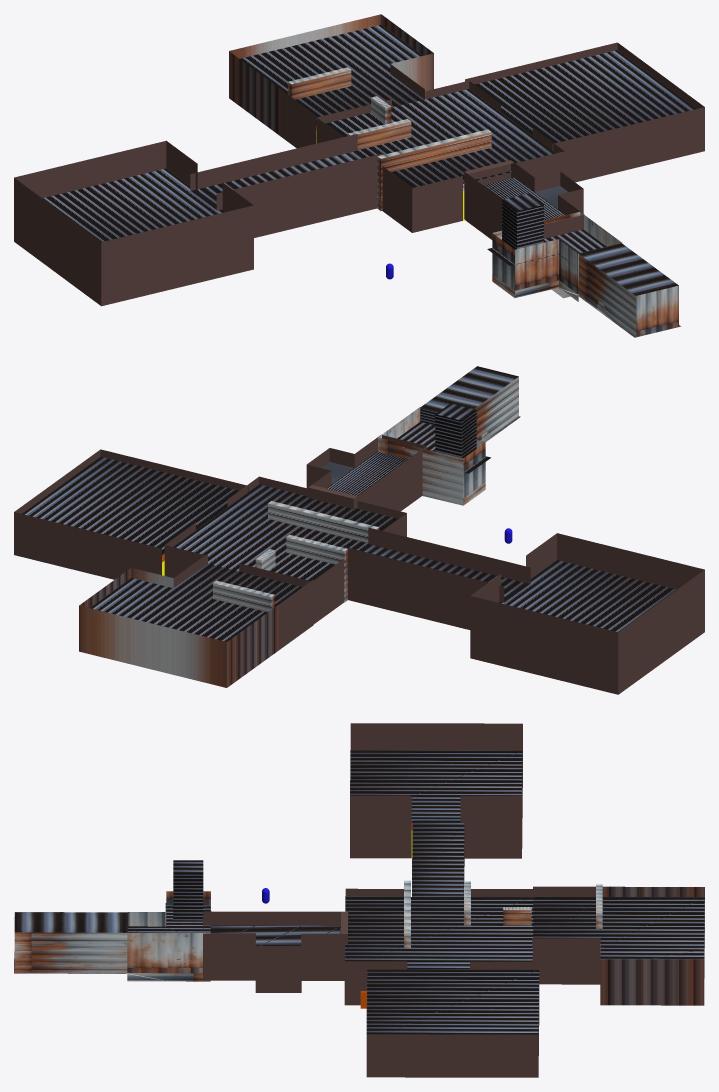
Rendered from cenario1.glb.
The picture shows the model from 3 angles, top to bottom: view 1: azimuth 30°, elevation 25°; view 2: azimuth 150°, elevation 25°; view 3: azimuth 270°, elevation 25°; orthographic projection. The views are drawn at different scales.
Parts seen in each view (by area): view 1: chao.005, teto.003, chao.009, teto.002, parede, teto.004, parede.002, chao.008, TETO, chao.007, teto.001, parede.001 (+4 smaller); view 2: chao.005, chao.008, teto.003, chao.009, teto.002, teto.004, parede.002, TETO, parede, teto.001, parede.001, chao.007 (+4 smaller); view 3: chao.005, teto.002, teto.003, chao.008, parede, teto.004, TETO, parede.001, parede.002, teto.001, teto.005, chao.007 (+2 smaller).
Part boxes in pixels (bbox=[...]): chao.005: bbox=[14, 140, 253, 306]; teto.003: bbox=[474, 50, 696, 143]; chao.009: bbox=[190, 134, 383, 237]; teto.002: bbox=[325, 89, 555, 187]; parede: bbox=[492, 212, 678, 336]; teto.004: bbox=[240, 24, 424, 125]; parede.002: bbox=[465, 42, 704, 182]; chao.008: bbox=[229, 14, 433, 148]; TETO: bbox=[42, 168, 225, 241]; chao.007: bbox=[316, 81, 564, 232]; teto.001: bbox=[487, 193, 678, 295]; parede.001: bbox=[464, 160, 584, 239]; chao.005: bbox=[470, 533, 704, 694]; chao.008: bbox=[79, 553, 313, 687]; teto.003: bbox=[22, 456, 238, 555]; chao.009: bbox=[342, 527, 530, 629]; teto.002: bbox=[173, 484, 398, 580]; teto.004: bbox=[89, 563, 302, 641]; parede.002: bbox=[14, 449, 248, 579]; TETO: bbox=[498, 560, 676, 632]; parede: bbox=[378, 366, 518, 505]; teto.001: bbox=[397, 366, 518, 473]; parede.001: bbox=[306, 434, 426, 511]; chao.007: bbox=[164, 476, 406, 624]; chao.005: bbox=[350, 723, 522, 858]; teto.002: bbox=[345, 896, 533, 969]; teto.003: bbox=[366, 969, 539, 1034]; chao.008: bbox=[532, 886, 704, 1005]; parede: bbox=[14, 891, 210, 981]; teto.004: bbox=[533, 896, 704, 959]; TETO: bbox=[350, 750, 522, 822]; parede.001: bbox=[203, 911, 348, 992]; parede.002: bbox=[366, 977, 539, 1077]; teto.001: bbox=[14, 860, 210, 932]; teto.005: bbox=[412, 820, 464, 896]; chao.007: bbox=[344, 888, 533, 1005].
Size of the model in its own units: 73.09 by 10.5 by 73.13.
Materials: 12 (8 with a texture image).
